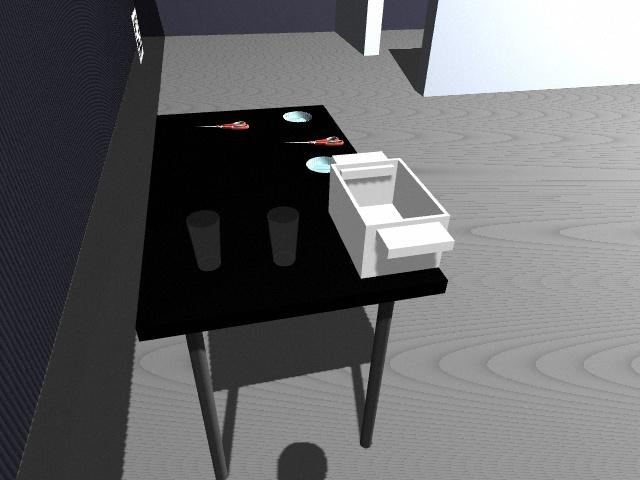cup: (185, 210, 221, 270), (267, 206, 299, 266)
plate: (306, 155, 334, 173), (282, 110, 314, 123)
scissors: (285, 136, 346, 146), (196, 121, 250, 131)
